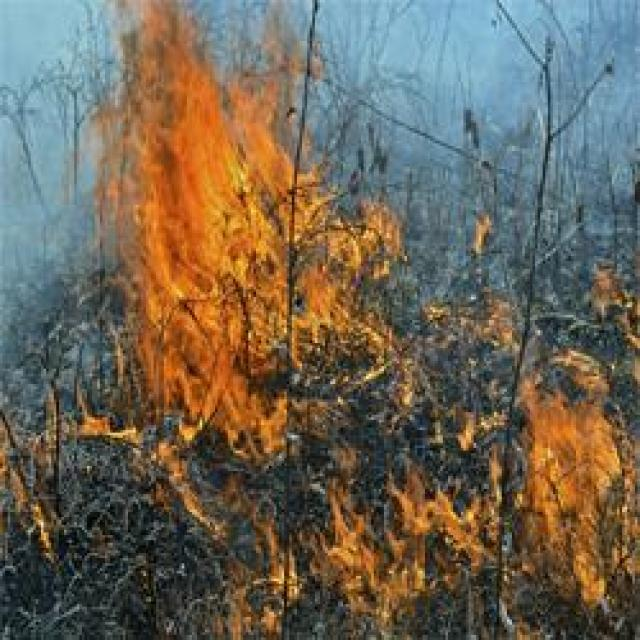fire: (147, 138, 235, 282), (160, 283, 246, 419), (534, 409, 608, 538), (184, 88, 225, 240)
